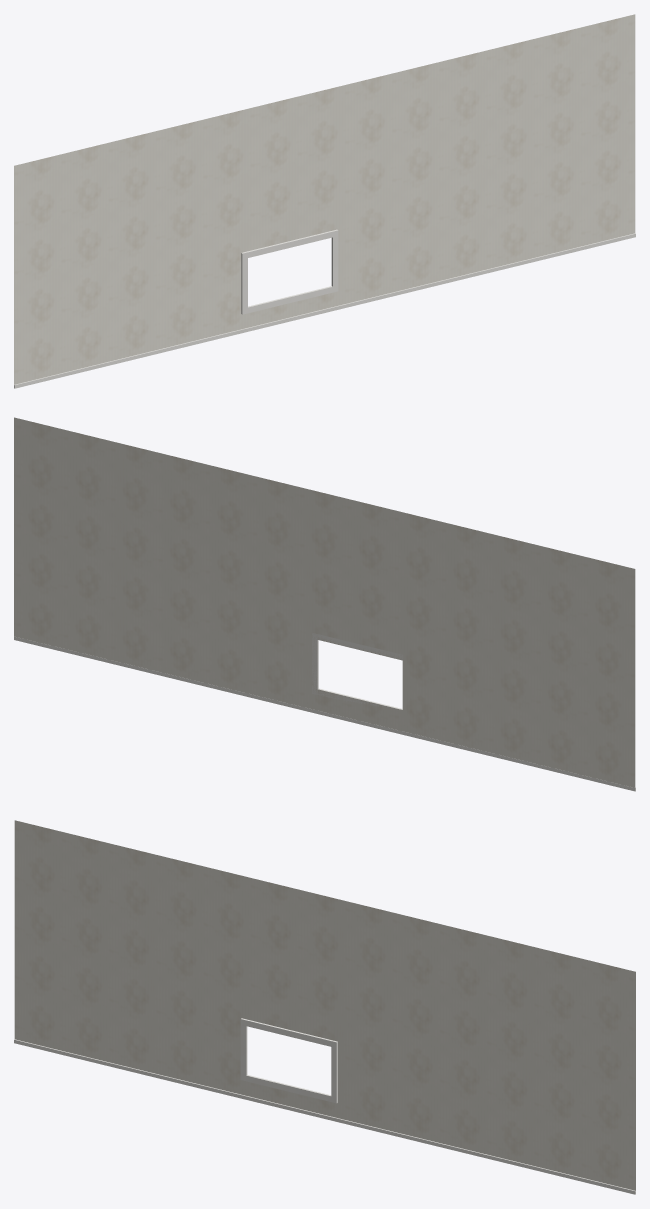
The picture shows the model from 3 angles, top to bottom: view 1: azimuth 30°, elevation 25°; view 2: azimuth 150°, elevation 25°; view 3: azimuth 330°, elevation 25°; orthographic projection.
Visible parts, largest first — view 1: jx_wm_26_1a4777a2; view 2: jx_wm_26_1a4777a2; view 3: jx_wm_26_1a4777a2.
Part boxes in pixels (bbox=[...]): jx_wm_26_1a4777a2: bbox=[14, 14, 635, 388]; jx_wm_26_1a4777a2: bbox=[14, 417, 635, 791]; jx_wm_26_1a4777a2: bbox=[14, 820, 635, 1194].
Size of the model in its own units: 26.3 by 9 by 0.086.
2 materials, 2 textured.
